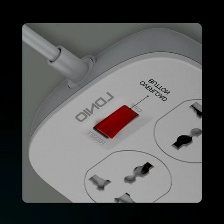three_eye_plug: (25, 23, 202, 202)
